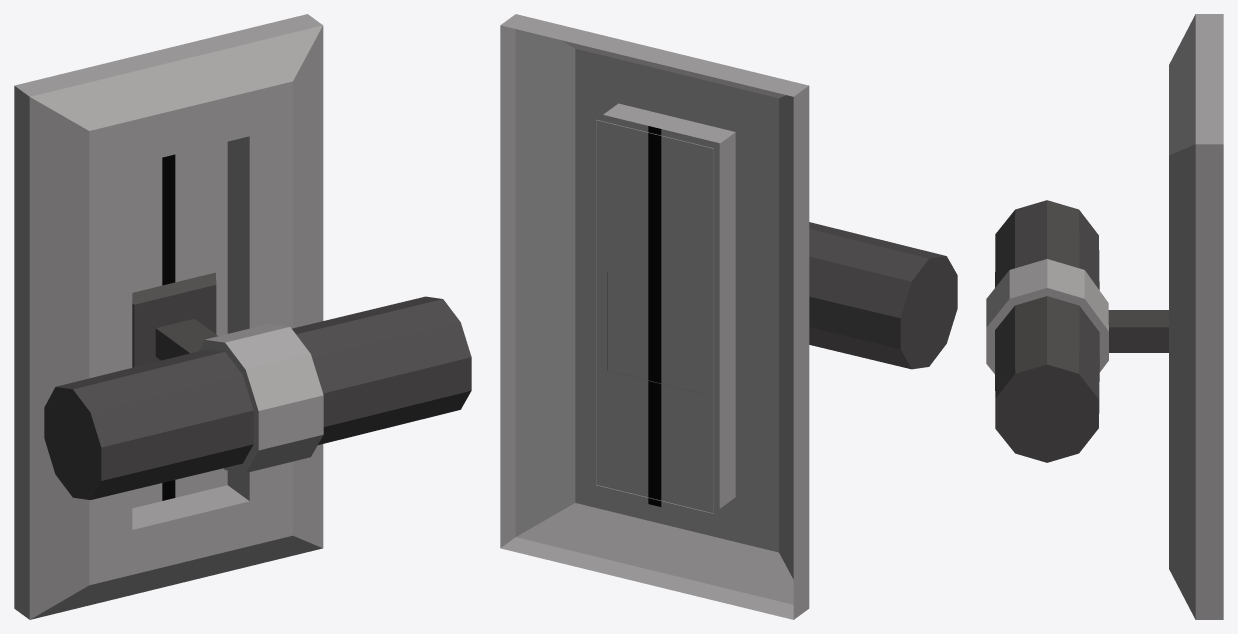
File: WallSwitch_1.fbx
The picture shows the model from 3 angles, left to right: view 1: azimuth 30°, elevation 25°; view 2: azimuth 150°, elevation 25°; view 3: azimuth 270°, elevation 25°; orthographic projection. The views are drawn at different scales.
Parts seen in each view (by area): view 1: WallSwitch_1_Casing, WallSwitch_1_Handle; view 2: WallSwitch_1_Casing, WallSwitch_1_Handle; view 3: WallSwitch_1_Casing, WallSwitch_1_Handle.
Part boxes in pixels (left/top/right/bottom): WallSwitch_1_Casing: left=14, top=14, right=323, bottom=619; WallSwitch_1_Handle: left=44, top=272, right=471, bottom=499; WallSwitch_1_Casing: left=500, top=14, right=809, bottom=619; WallSwitch_1_Handle: left=607, top=222, right=957, bottom=393; WallSwitch_1_Casing: left=1169, top=14, right=1223, bottom=619; WallSwitch_1_Handle: left=986, top=200, right=1168, bottom=462.
Bounding box in the file's own units: 29.8 × 40.23 × 18.19.
